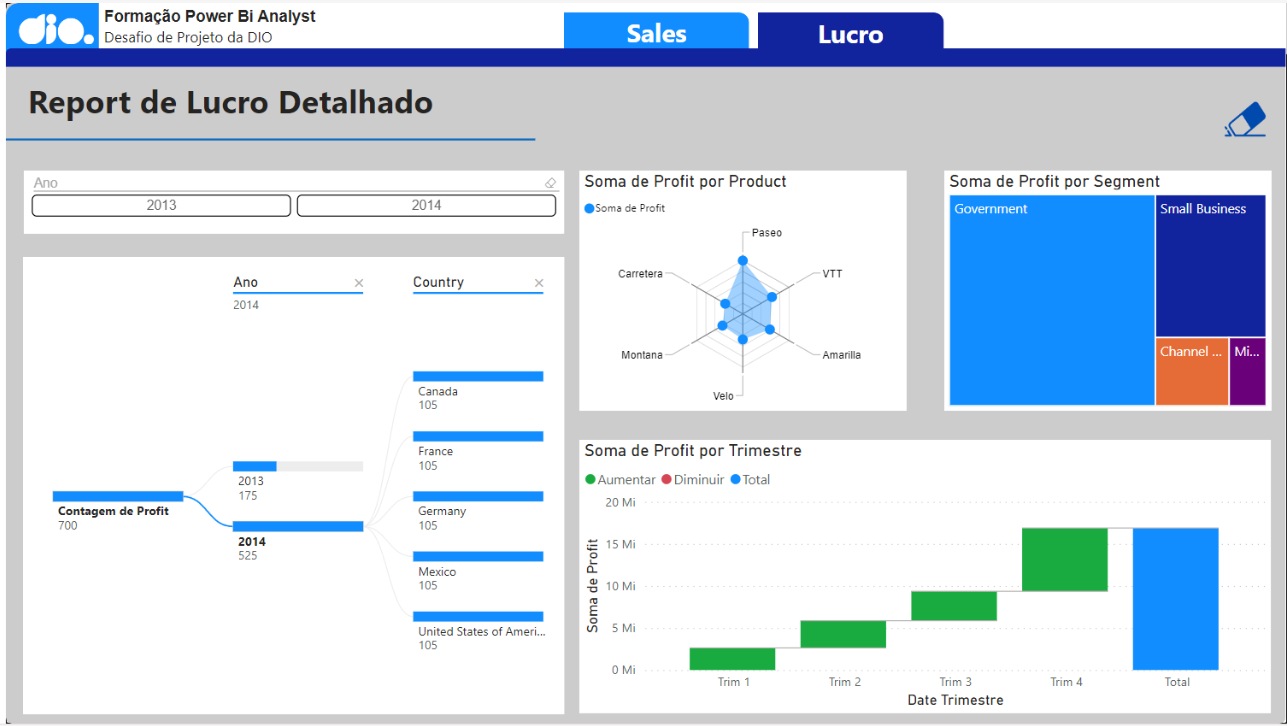

Layout of this report page (visuals, bound fields, positions):
{"tool":"powerbi","page":{"name":"Duplicata de Página 1","canvas":[1280,720],"ordinal":1},"visuals":[{"type":"shape","box":[0,0,1278.9,720],"z":0},{"type":"shape","box":[0,0,93,50.8],"z":1000},{"type":"image","title":"dio","box":[0,5.7,101.4,39.5],"z":2000},{"type":"shape","box":[356.9,29.2,185.4,21.5],"z":3000},{"type":"textbox","box":[93.1,0,1186.9,50.8],"z":4000},{"type":"shape","box":[751.4,9.3,185.7,40],"z":5000},{"type":"shape","box":[557.9,9.3,185,40],"z":6000},{"type":"textbox","box":[16.7,70,433.3,57.8],"z":7000},{"type":"shape","box":[0,127.9,529.3,16.4],"z":8000},{"type":"shape","box":[0,45.2,1279.2,18.5],"z":9000},{"type":"shape","box":[17.8,253.3,411.1,456.7],"z":10000},{"type":"image","title":"clear","box":[1211.7,90.6,52.2,51.1],"z":11000},{"type":"actionButton","box":[1210,141.7,53.3,51.7],"z":14000},{"type":"actionButton","box":[556.7,8.7,186.7,36.7],"z":15000},{"type":"actionButton","box":[750.7,9.3,186.7,36.7],"z":16000},{"type":"shape","box":[573.3,167.8,326.7,240],"z":17000},{"type":"shape","box":[573.3,436.7,691.1,273.3],"z":18000},{"type":"shape","box":[17.8,167.8,538.9,63.3],"z":19000},{"type":"decompositionTreeVisual","fields":{"Analyze":["CountNonNull(financials.Profit)"],"ExplainBy":["financials.Date.Variation.Hierarquia de datas.Ano","financials.Country"]},"box":[16.7,253.3,541.1,456.7],"z":20000},{"type":"shape","box":[937.8,167.8,326.7,240],"z":21000},{"type":"RadarChart1446119667547","fields":{"Y":["Sum(financials.Profit)"],"Category":["financials.Product"]},"box":[573.3,167.8,326.7,240],"z":22000},{"type":"treemap","fields":{"Values":["Sum(financials.Profit)"],"Group":["financials.Segment"]},"box":[937.8,167.8,326.7,240],"z":23000},{"type":"waterfallChart","fields":{"Y":["Sum(financials.Profit)"],"Category":["financials.Date.Variation.Hierarquia de datas.Trimestre"]},"box":[573.3,436.7,691.1,273.3],"z":24000},{"type":"ChicletSlicer1448559807354","fields":{"Category":["financials.Date.Variation.Hierarquia de datas.Ano"]},"box":[17.8,167.8,540,63.3],"z":25000}]}

Visuals, with their boxes in screenshot pixels (x1, y1, x2, y2), scaled from the page's 1280x720 canvas onto the 1287x726 screenshot:
shape: l=0, t=0, r=1286, b=725
shape: l=0, t=0, r=94, b=51
"dio" image: l=0, t=6, r=102, b=46
shape: l=359, t=29, r=545, b=51
textbox: l=94, t=0, r=1286, b=51
shape: l=756, t=9, r=942, b=50
shape: l=561, t=9, r=747, b=50
textbox: l=17, t=71, r=452, b=129
shape: l=0, t=129, r=532, b=146
shape: l=0, t=46, r=1286, b=64
shape: l=18, t=255, r=431, b=716
"clear" image: l=1218, t=91, r=1271, b=143
actionButton: l=1217, t=143, r=1270, b=195
actionButton: l=560, t=9, r=747, b=46
actionButton: l=755, t=9, r=943, b=46
shape: l=576, t=169, r=905, b=411
shape: l=576, t=440, r=1271, b=716
shape: l=18, t=169, r=560, b=233
decompositionTreeVisual - CountNonNull(financials.Profit) x financials.Date.Variation.Hierarquia de datas.Ano: l=17, t=255, r=561, b=716
shape: l=943, t=169, r=1271, b=411
RadarChart1446119667547 - Sum(financials.Profit) x financials.Product: l=576, t=169, r=905, b=411
treemap - Sum(financials.Profit) x financials.Segment: l=943, t=169, r=1271, b=411
waterfallChart - Sum(financials.Profit) x financials.Date.Variation.Hierarquia de datas.Trimestre: l=576, t=440, r=1271, b=716
ChicletSlicer1448559807354 - financials.Date.Variation.Hierarquia de datas.Ano: l=18, t=169, r=561, b=233
